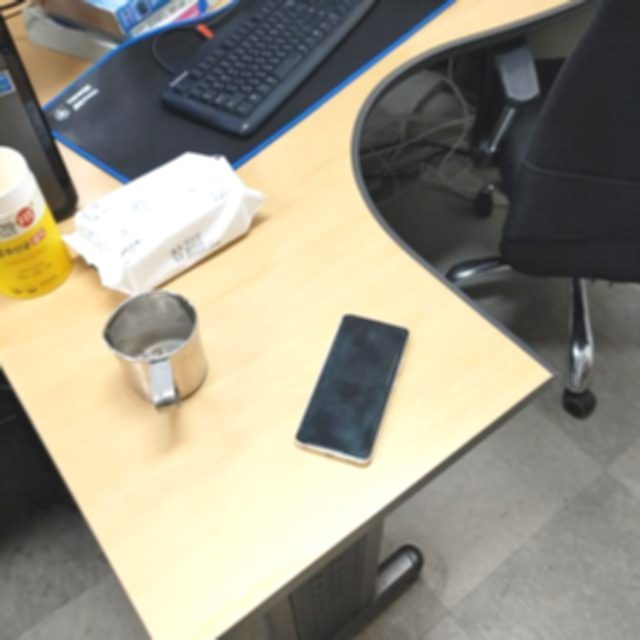cup: (102, 289, 212, 411)
phone: (297, 314, 408, 470)
